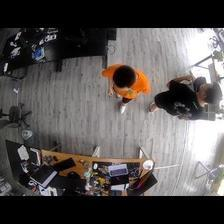normal: (150, 75, 221, 115), (102, 62, 150, 113)
